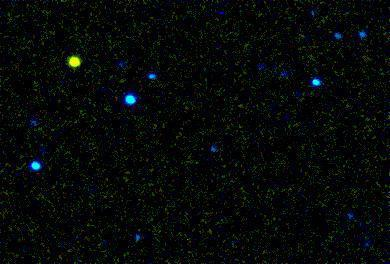star: (61, 46, 91, 76)
